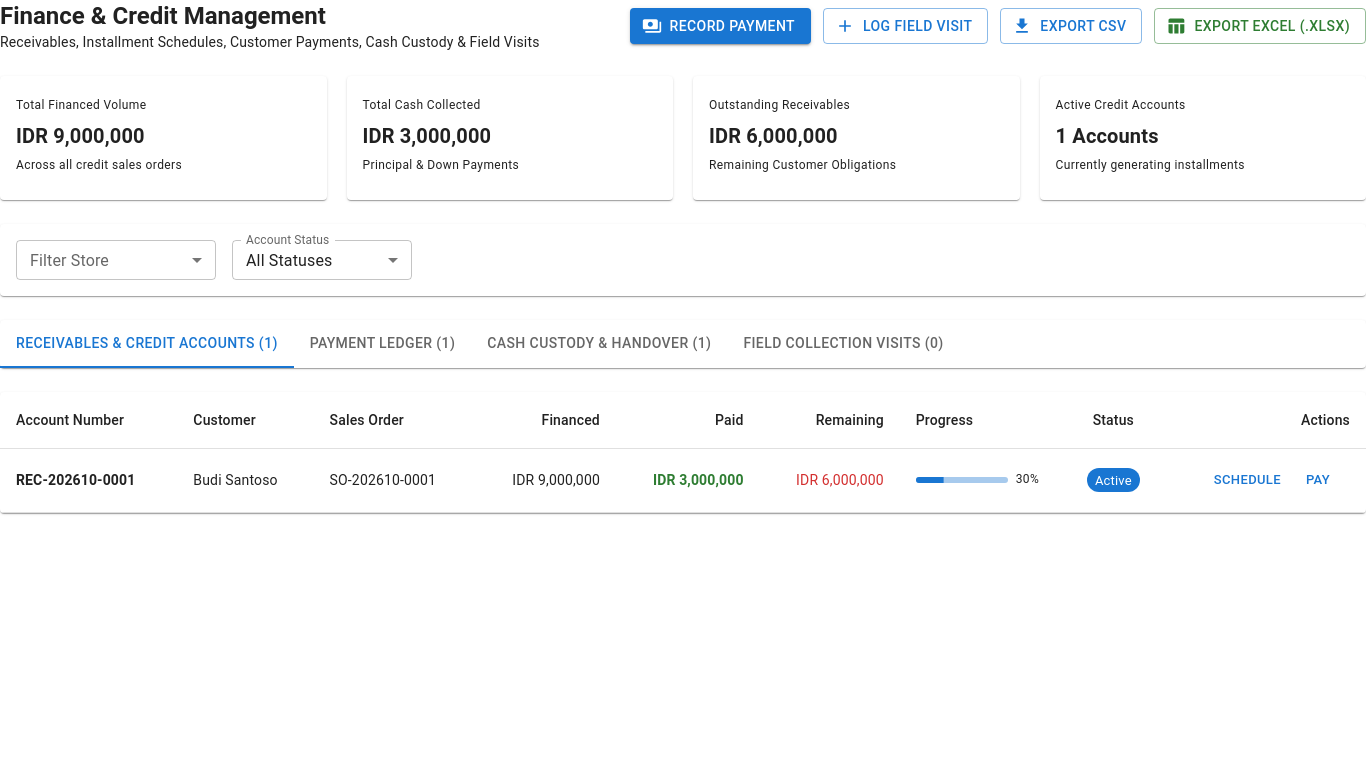
FinancePage › displays credit accounts and opens schedule viewer modal
Expected: the text "REC-202610-0001" is shown, [0,448,177,512]
Expected: the text "Budi Santoso" is shown, [177,448,314,512]
Click the button "Schedule".
click(1247, 480)  # box [1209,465,1286,496]
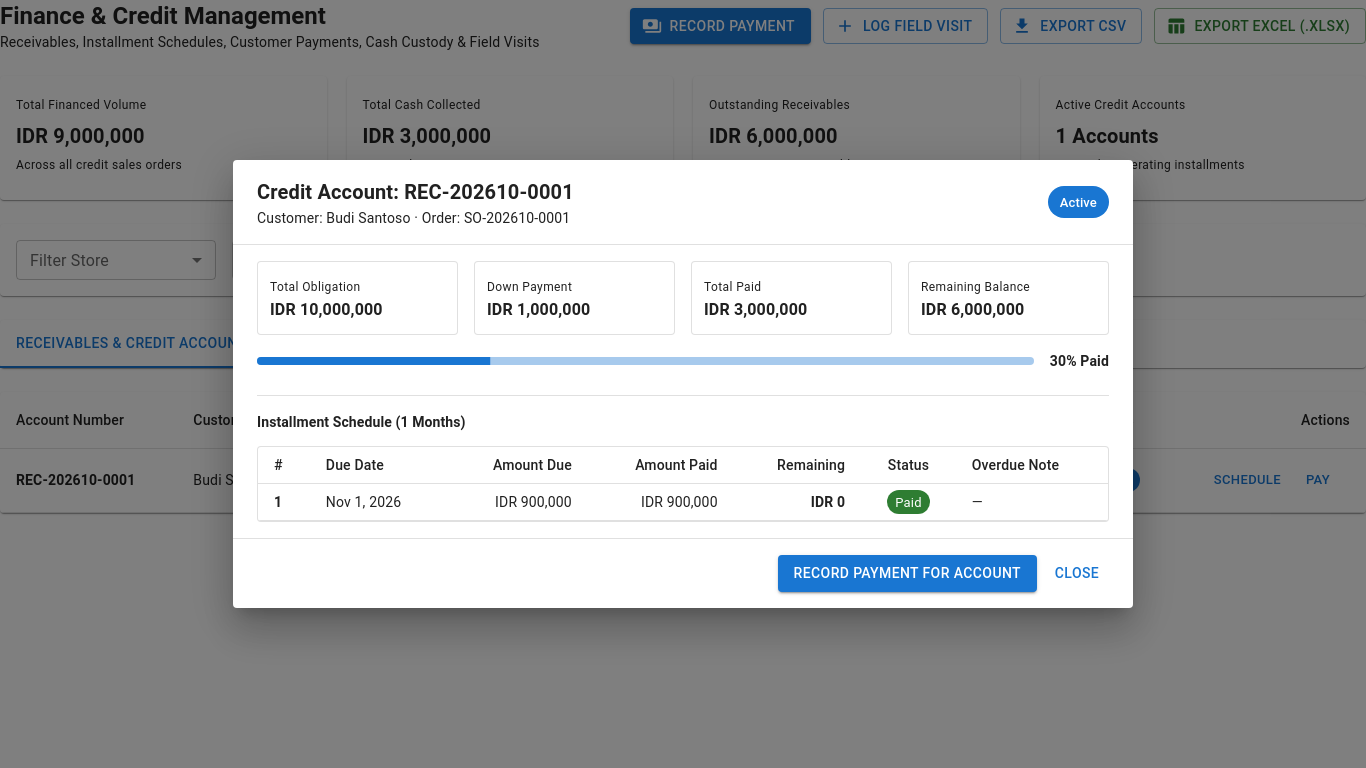
Expected: the heading "Credit Account: REC-202610-0001" is shown, [257,176,574,208]
Expected: the heading "Installment Schedule (1 Months)" is shown, [257,414,466,430]
